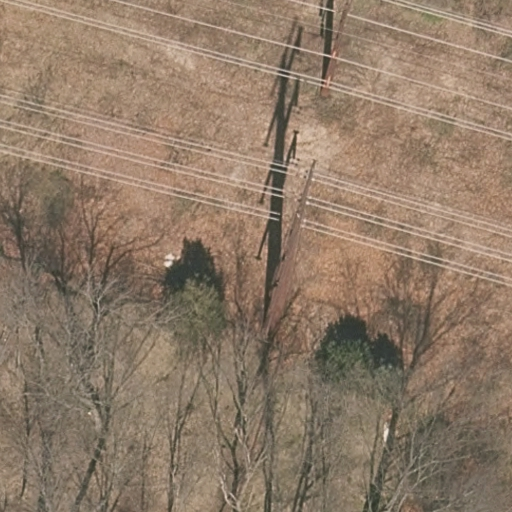TT: (271, 160, 318, 336), (320, 2, 351, 98)
